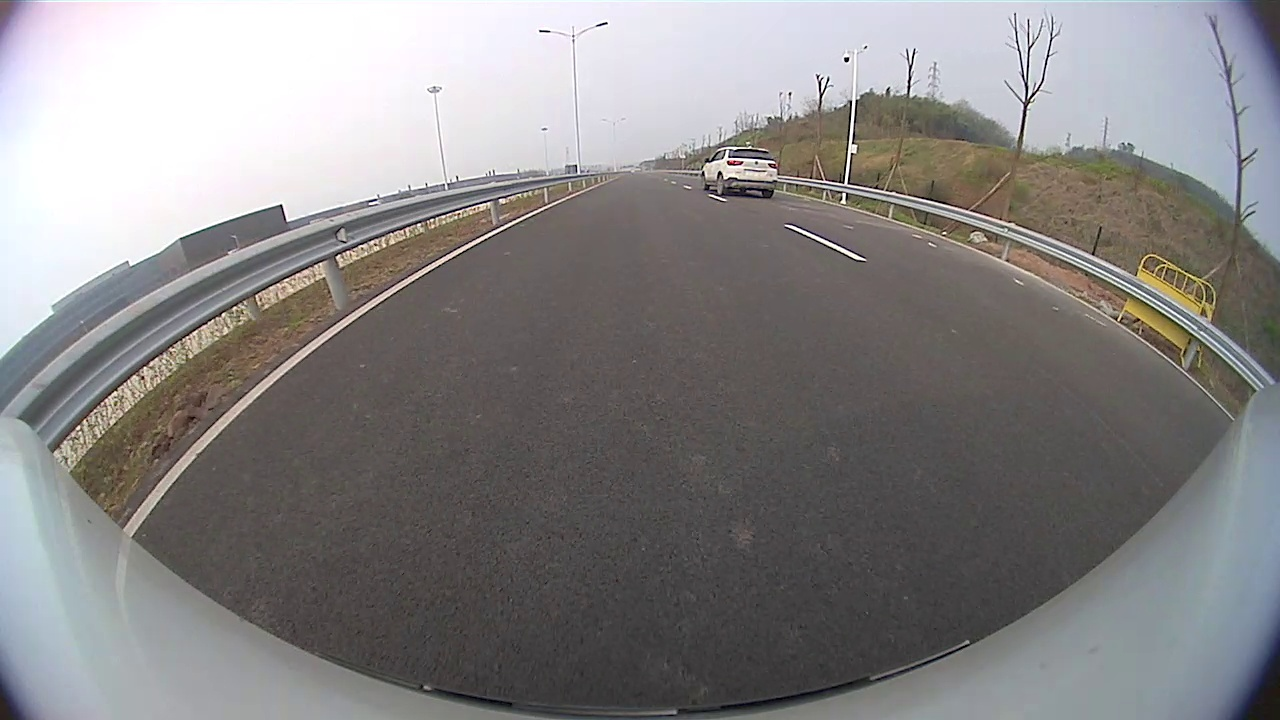car: (700, 146, 780, 200)
front: (700, 172, 710, 192)
rear: (715, 172, 729, 197)
